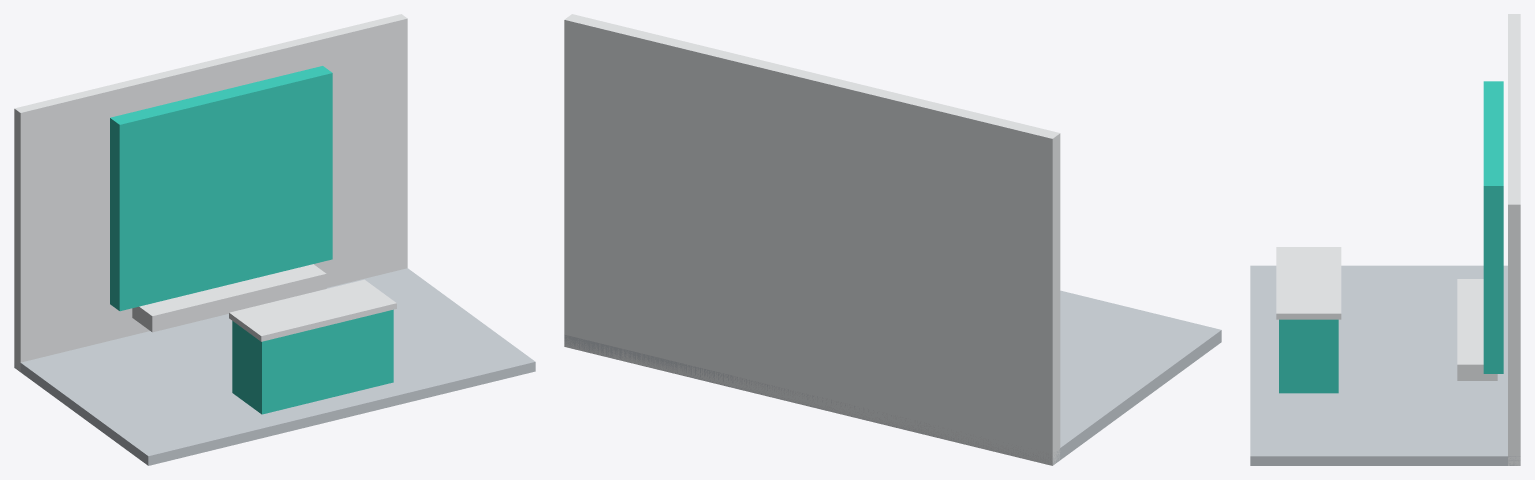
The picture shows the model from 3 angles, left to right: view 1: azimuth 30°, elevation 25°; view 2: azimuth 150°, elevation 25°; view 3: azimuth 270°, elevation 25°; orthographic projection. The views are drawn at different scales.
Visible parts, largest first — view 1: Exhibition Booth Concept; view 2: Exhibition Booth Concept; view 3: Exhibition Booth Concept.
Part boxes in pixels (<box>): Exhibition Booth Concept: <box>14,14,535,465</box>; Exhibition Booth Concept: <box>564,14,1221,465</box>; Exhibition Booth Concept: <box>1250,14,1520,465</box>.
Bounding box in the file's own units: 5 × 3.2 × 3.
